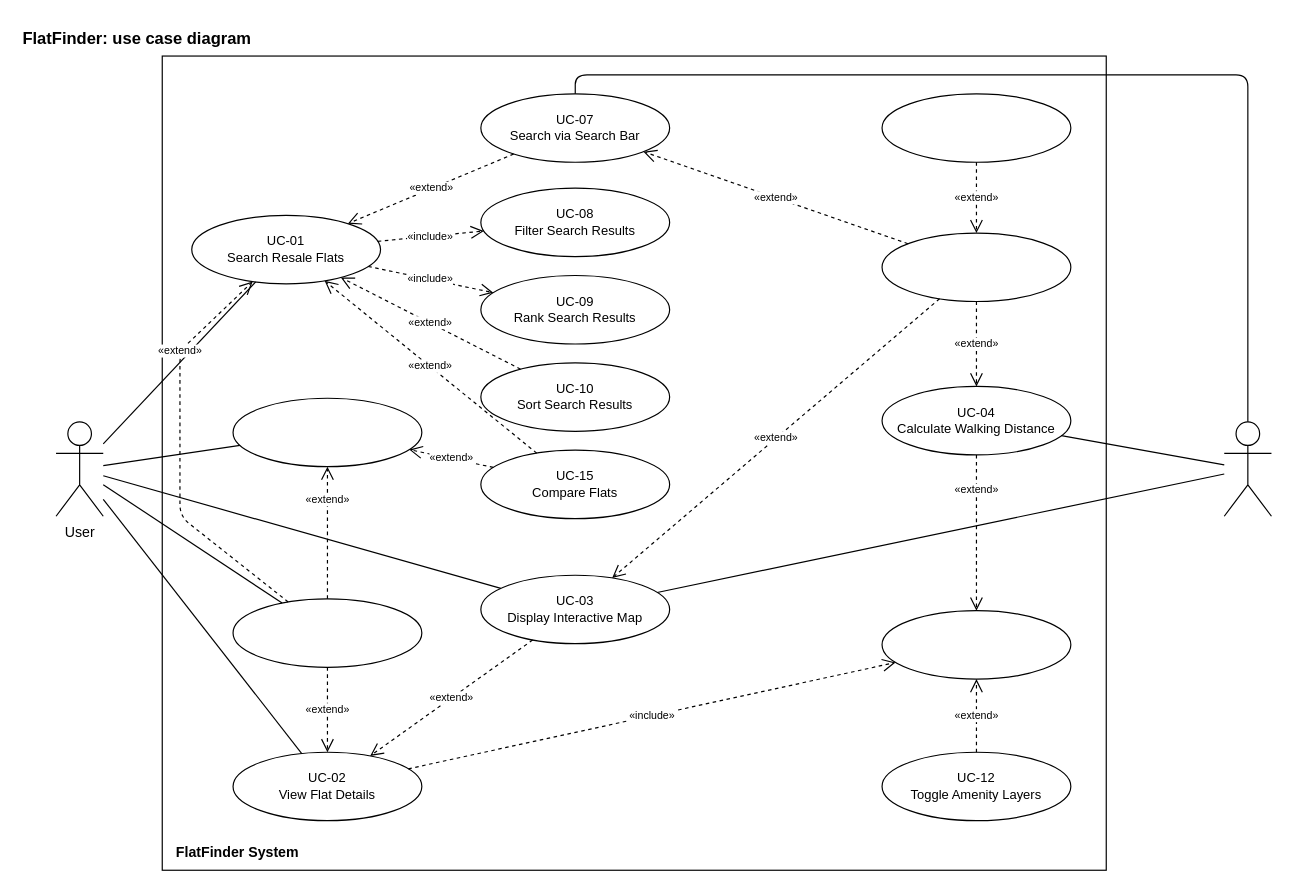
Image size: 1307x891. Some labels were removed from this diagram. Each missing label, with the centre of its shape:
OneMap API: the point at 1247,468
UC-05 Bookmark Resale Flat: the point at 327,632
UC-06 Handle API Failure: the point at 976,266
UC-11 Find Nearest Amenity: the point at 976,644
UC-13 Render Last Saved Map State: the point at 976,127
UC-14 View Bookmarked Flats: the point at 327,432
